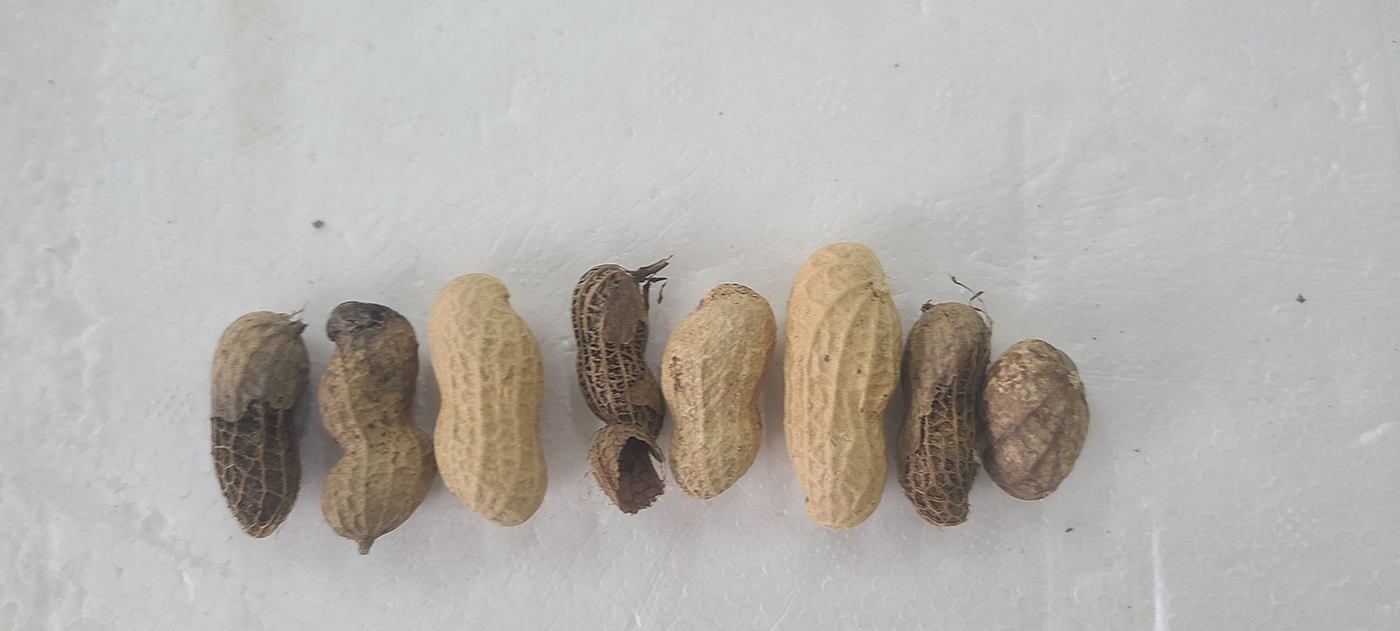h: (781, 242, 904, 529), (423, 271, 549, 527), (660, 282, 777, 500)
l: (317, 300, 432, 542), (571, 264, 666, 513), (209, 310, 311, 541), (899, 302, 991, 527), (981, 339, 1091, 502)
